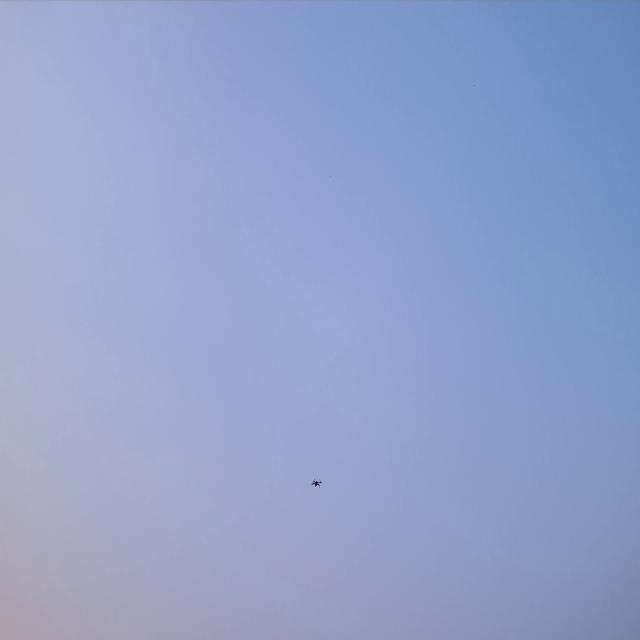UAV: (310, 476, 322, 490)
